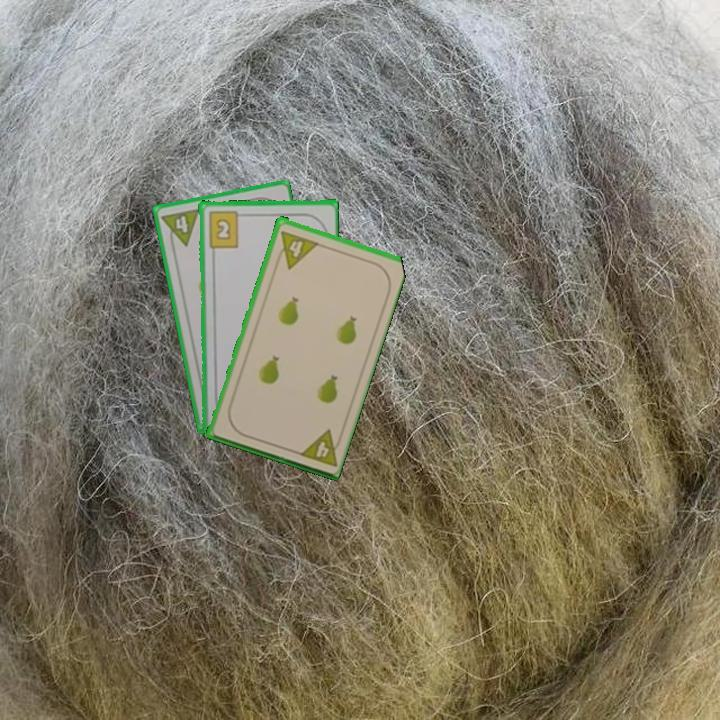2b: (205, 207, 247, 249)
4p: (294, 425, 346, 470), (272, 227, 320, 271), (158, 205, 202, 251)
